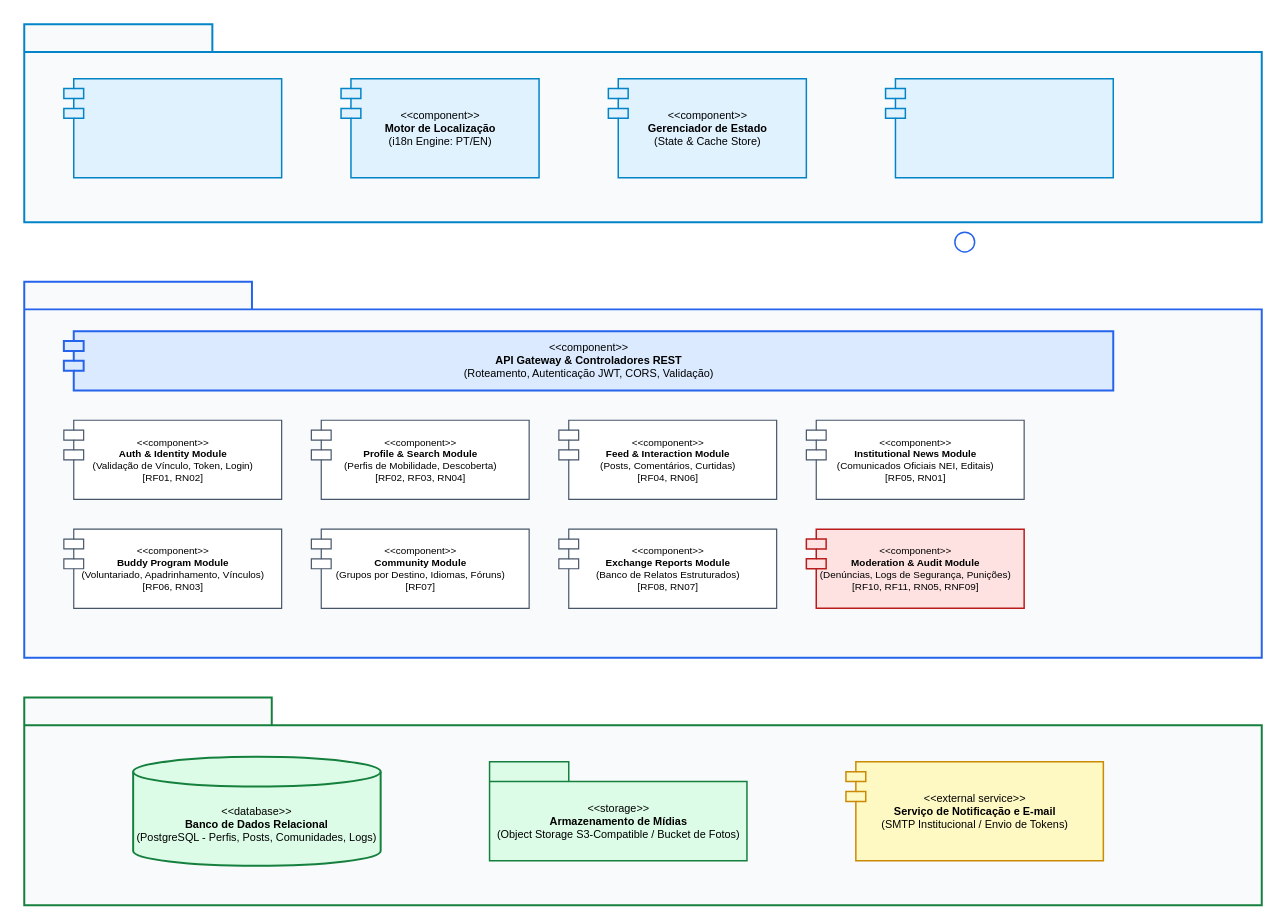
Image size: 1280x924. Some labels were removed from this diagram. Each missing label, with the box of its shape:
<<component>> Cliente de Comunicação (HTTP/REST Client - Axios/Fetch): (884, 78, 1114, 178)
<<component>> Interface do Usuário (UI Components & Views): (63, 78, 282, 178)
<<subsystem>> Camada de Persistência, Armazenamento e Serviços Externos: (23, 696, 1262, 906)
<<subsystem>> Frontend Web Responsivo (Navegador do Cliente): (23, 23, 1262, 223)
<<subsystem>> Serviços de Backend (Camada de Aplicação & Regras de Negócio): (23, 280, 1262, 658)
Interface RESTful (JSON sobre HTTPS): (954, 231, 975, 252)
